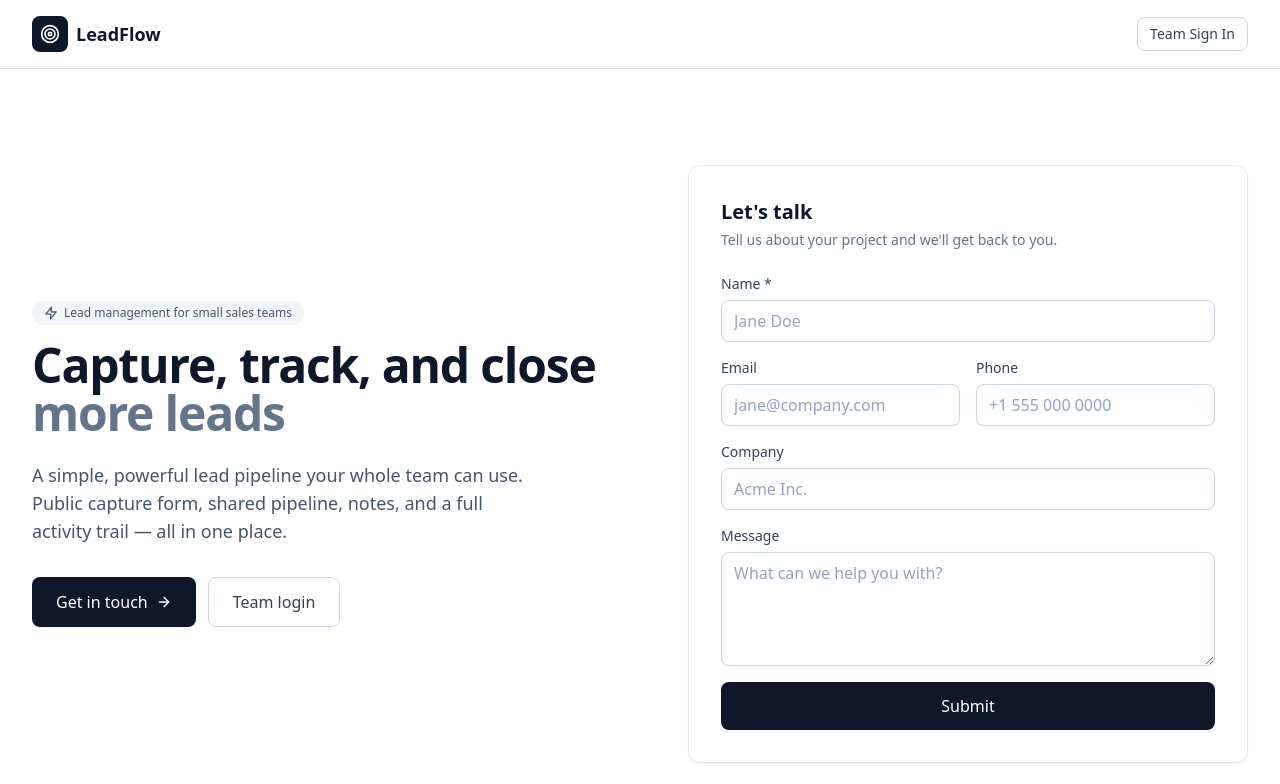
Test: Lead capture flow (public) › submits the public lead form and shows a thank-you message
The image size is (1280, 784).
In the field with placeholder "Jane Doe": (968, 321) [721, 300, 1215, 342], type "Jane"
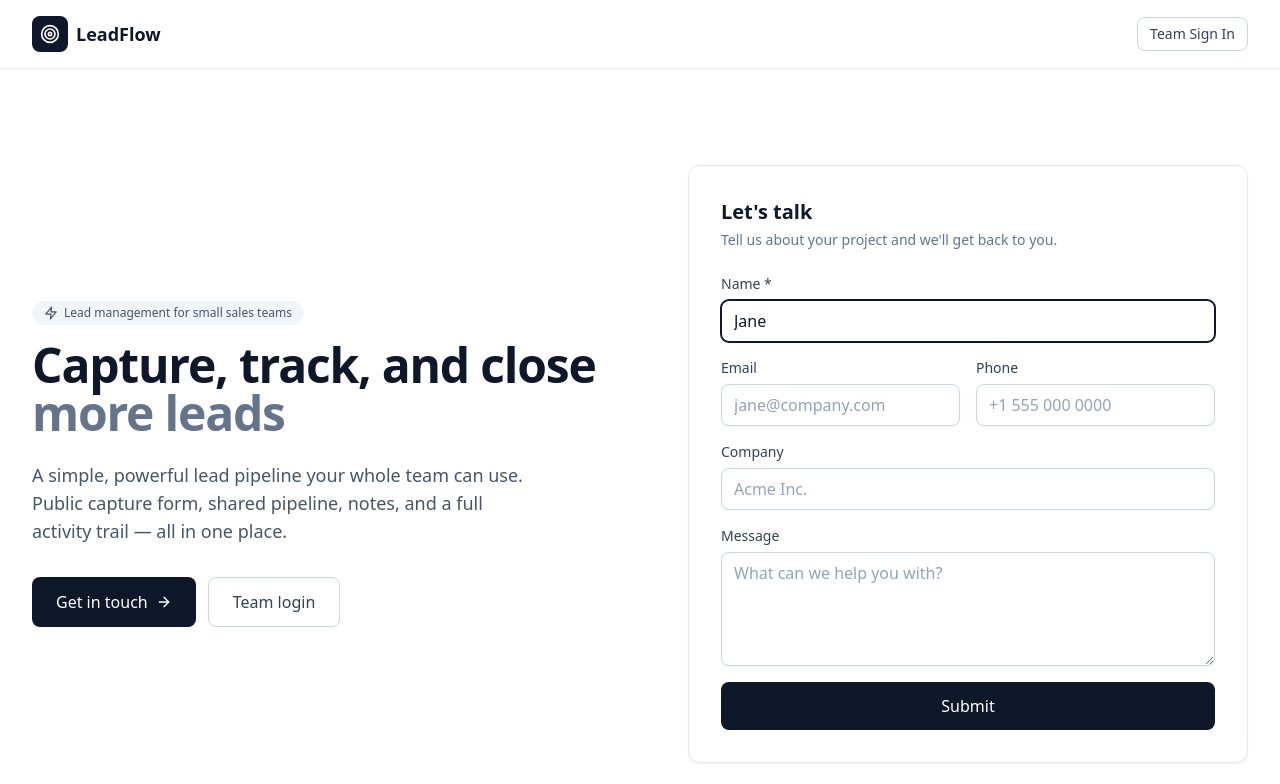
In the field with placeholder "jane@company.com": (840, 405) [721, 384, 960, 426], type "jane@test.com"
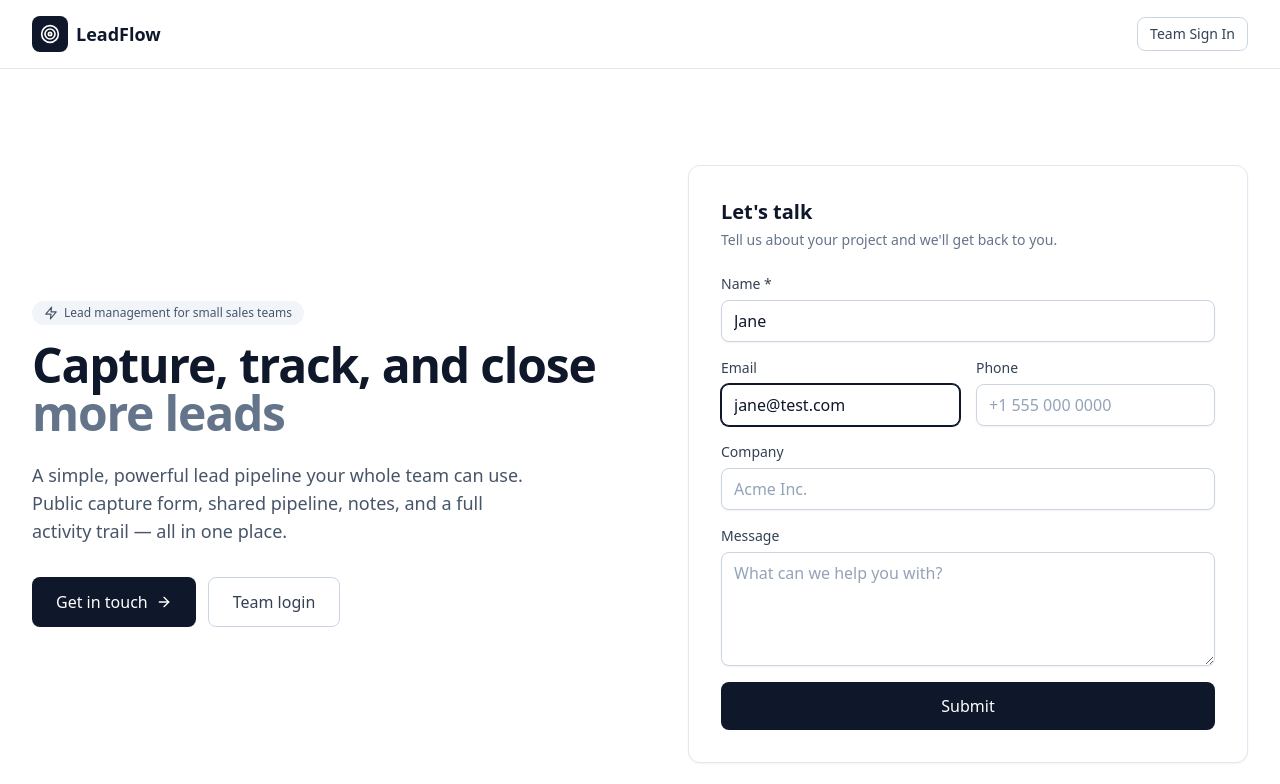
Click the button "Submit": (968, 706) [721, 682, 1215, 730]
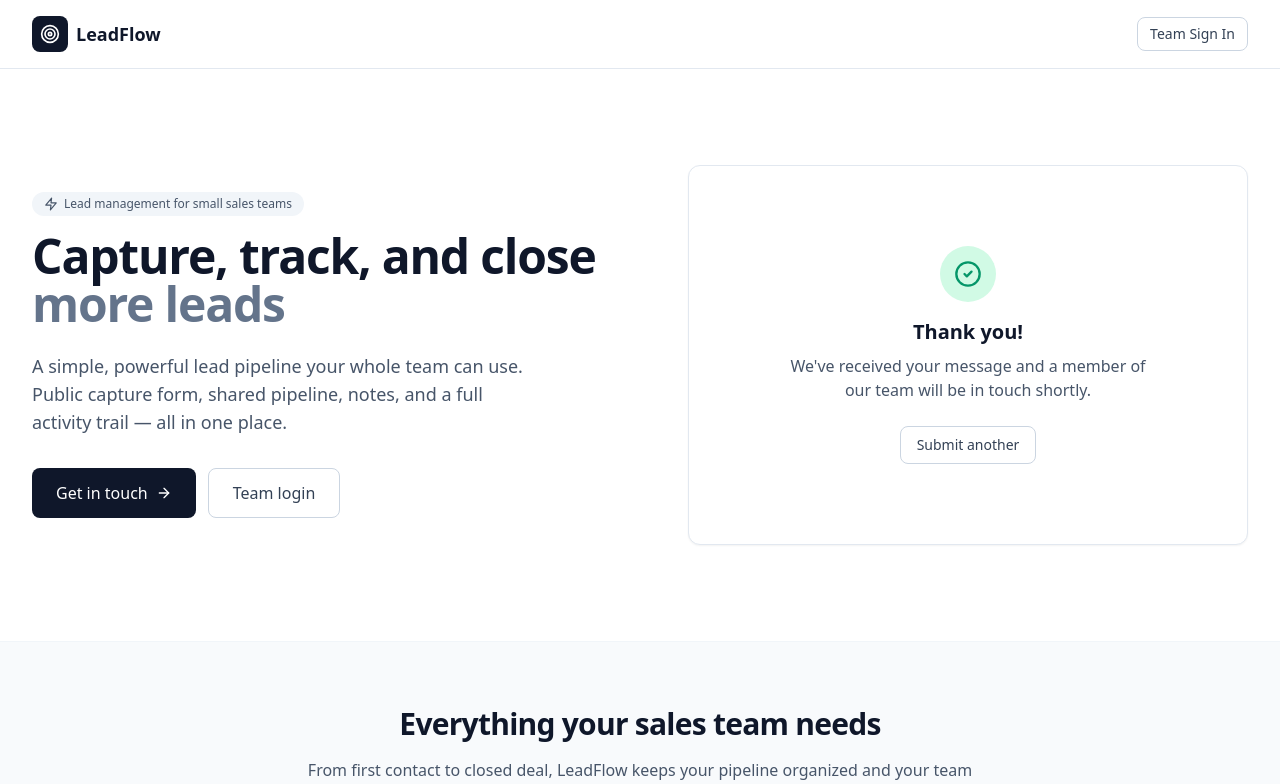
Now the heading "Thank you!" is shown, box [913, 318, 1023, 346]
